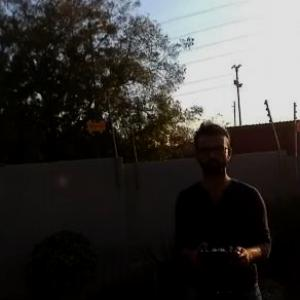follow: (170, 114, 278, 299)
